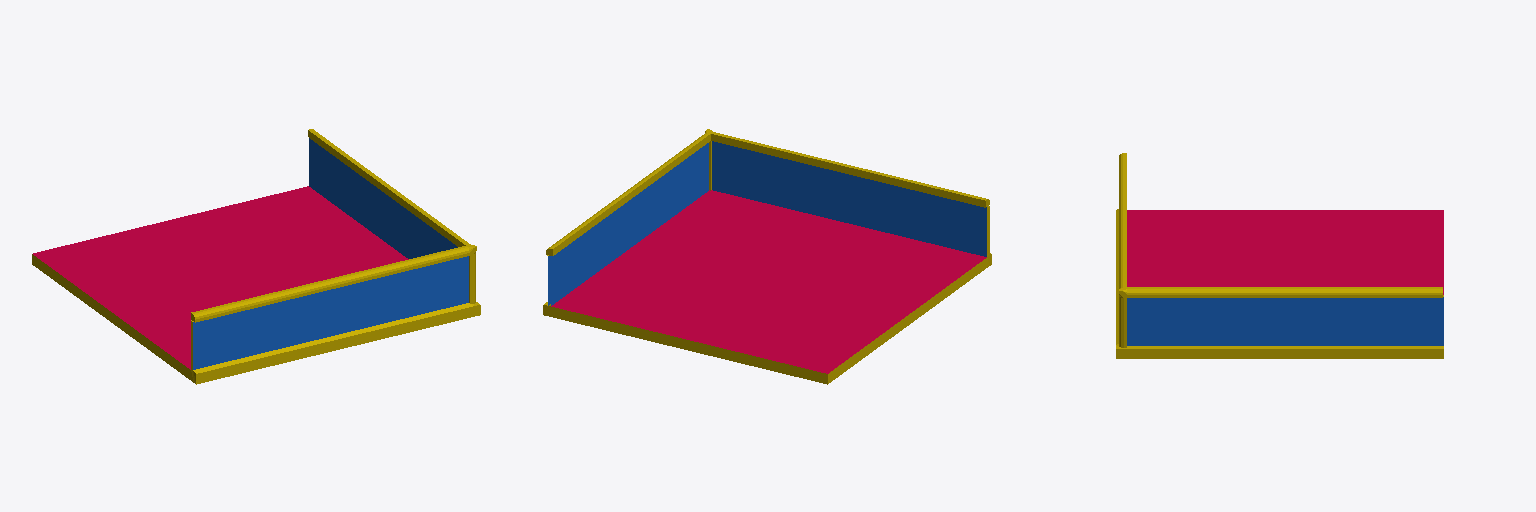
The model's file is NY_roof2_3.obj.
3 renders of one model, left to right at view 1: azimuth 30°, elevation 25°; view 2: azimuth 150°, elevation 25°; view 3: azimuth 270°, elevation 25°, orthographic.
Visible parts, largest first — view 1: Cube.002_Cube.001; view 2: Cube.002_Cube.001; view 3: Cube.002_Cube.001.
Part boxes in pixels (x1,y1,x2,y2): Cube.002_Cube.001: (32,129,480,384); Cube.002_Cube.001: (543,129,991,384); Cube.002_Cube.001: (1116,153,1443,358).
Size of the model in its own units: 3.03 by 0.688 by 3.03.